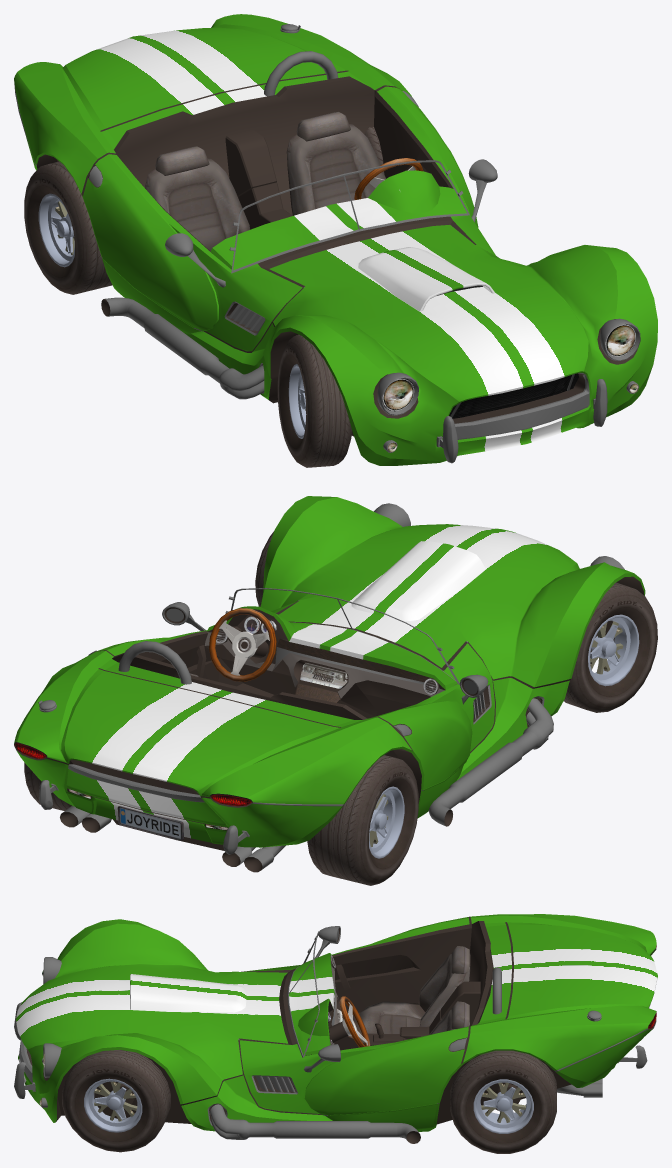
Rendered from car-green.glb.
The picture shows the model from 3 angles, top to bottom: view 1: azimuth 30°, elevation 25°; view 2: azimuth 150°, elevation 25°; view 3: azimuth 270°, elevation 25°; orthographic projection. The views are drawn at different scales.
Visible parts, largest first — view 1: polySurface13.29, Seats.30, REAR_LEFT1.24, FRONT_LEFT1.23, Sidepipes.12, polySurface3.7, polySurface4.25, polySurface9.9, windscreen.11, polySurface12.28, polySurface11.27; view 2: polySurface13.29, REAR_LEFT1.24, FRONT_LEFT1.23, Sidepipes.12, Seats.30, Exhaust1.3, License_plate.2, polySurface9.9, polySurface8.14, polySurface3.7, windscreen.11, polySurface11.27 (+1 smaller); view 3: polySurface13.29, REAR_LEFT.22, FRONT_LEFT.21, Seats.30, Sidepipes.12, polySurface3.7, polySurface4.25, Exhaust1.3, polySurface9.9, polySurface11.27, polySurface12.28, windscreen.11.
Boxes of the visible parts, box(x1,y1,x2,y2) form: polySurface13.29: box(14, 14, 657, 465); Seats.30: box(145, 111, 423, 269); REAR_LEFT1.24: box(24, 161, 112, 294); FRONT_LEFT1.23: box(277, 334, 352, 467); Sidepipes.12: box(101, 256, 498, 399); polySurface3.7: box(377, 318, 640, 415); polySurface4.25: box(436, 379, 607, 463); polySurface9.9: box(264, 51, 338, 96); windscreen.11: box(229, 160, 468, 271); polySurface12.28: box(165, 233, 225, 287); polySurface11.27: box(468, 159, 497, 222); polySurface13.29: box(14, 496, 645, 850); REAR_LEFT1.24: box(307, 755, 418, 885); FRONT_LEFT1.23: box(564, 582, 657, 712); Sidepipes.12: box(428, 698, 553, 826); Seats.30: box(190, 608, 276, 681); Exhaust1.3: box(60, 805, 285, 872); License_plate.2: box(117, 806, 183, 840); polySurface9.9: box(118, 641, 191, 684); polySurface8.14: box(39, 780, 249, 854); polySurface3.7: box(374, 503, 624, 569); windscreen.11: box(225, 588, 459, 683); polySurface11.27: box(162, 602, 205, 630); polySurface13.29: box(16, 914, 657, 1131); REAR_LEFT.22: box(450, 1050, 556, 1153); FRONT_LEFT.21: box(62, 1049, 170, 1152); Seats.30: box(329, 946, 469, 1047); Sidepipes.12: box(210, 1104, 420, 1143); polySurface3.7: box(42, 957, 61, 1077); polySurface4.25: box(14, 1002, 35, 1098); Exhaust1.3: box(557, 1078, 602, 1097); polySurface9.9: box(492, 967, 501, 1014); polySurface11.27: box(304, 1044, 340, 1072); polySurface12.28: box(314, 926, 340, 958); windscreen.11: box(288, 931, 319, 1056).
Size of the model in its own units: 0.0173 by 0.00841 by 0.0332.
53 materials, 51 textured.
